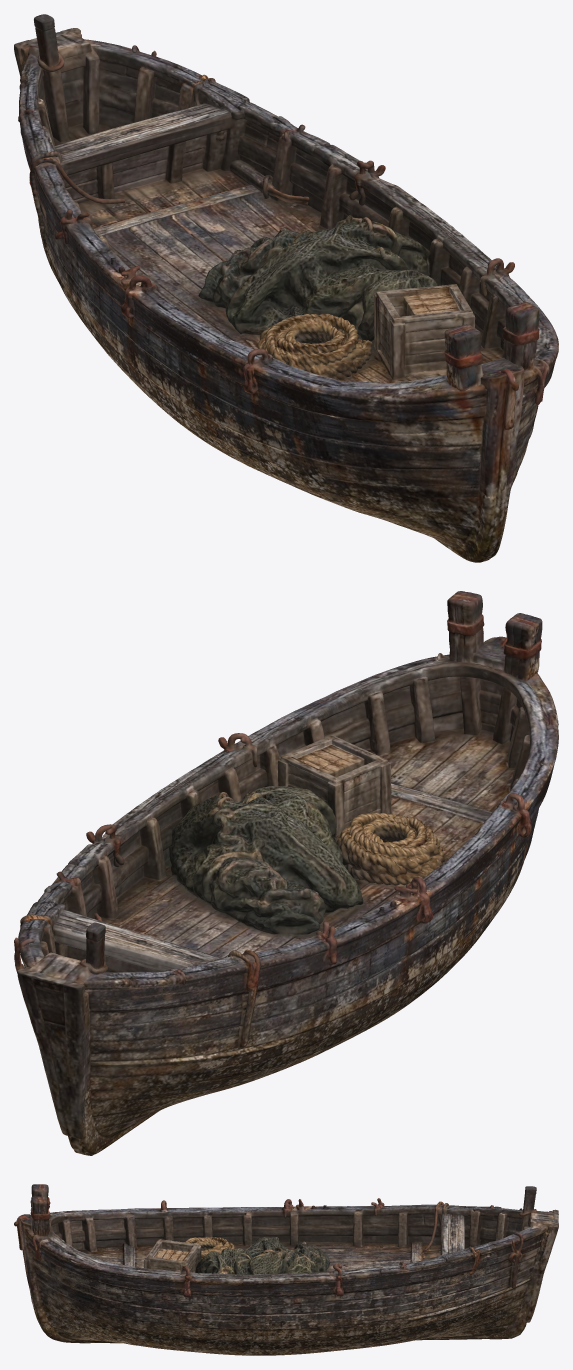
The model's file is boat.glb.
3 renders of one model, top to bottom at view 1: azimuth 30°, elevation 25°; view 2: azimuth 150°, elevation 25°; view 3: azimuth 270°, elevation 25°, orthographic. The views are drawn at different scales.
Visible parts, largest first — view 1: tripo_node_6f59e6e4-a353-4c73-95b9-79e9c7743415; view 2: tripo_node_6f59e6e4-a353-4c73-95b9-79e9c7743415; view 3: tripo_node_6f59e6e4-a353-4c73-95b9-79e9c7743415.
Part boxes in pixels (left/top/right/bottom): tripo_node_6f59e6e4-a353-4c73-95b9-79e9c7743415: left=14, top=14, right=558, bottom=562; tripo_node_6f59e6e4-a353-4c73-95b9-79e9c7743415: left=14, top=591, right=558, bottom=1155; tripo_node_6f59e6e4-a353-4c73-95b9-79e9c7743415: left=14, top=1184, right=558, bottom=1355.
Bounding box in the file's own units: 0.3661 × 0.3027 × 0.9838.
1 material, 1 textured.
